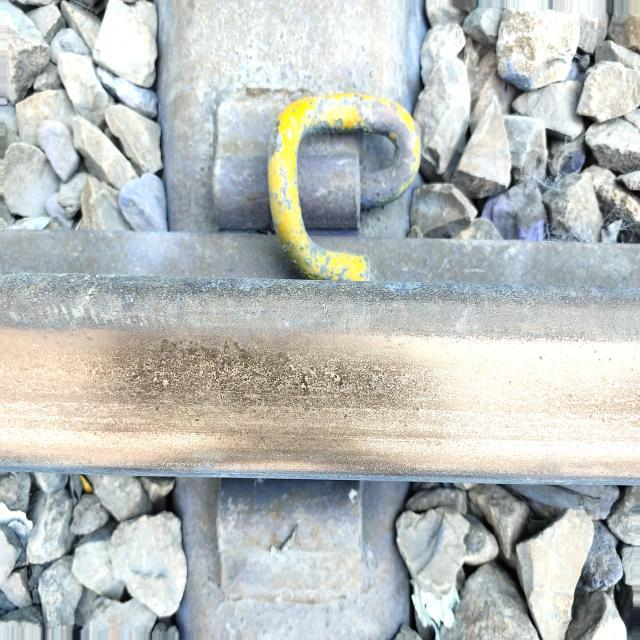Good Fasteners: (192, 52, 431, 296)
Missing Fastener: (174, 475, 399, 610)
